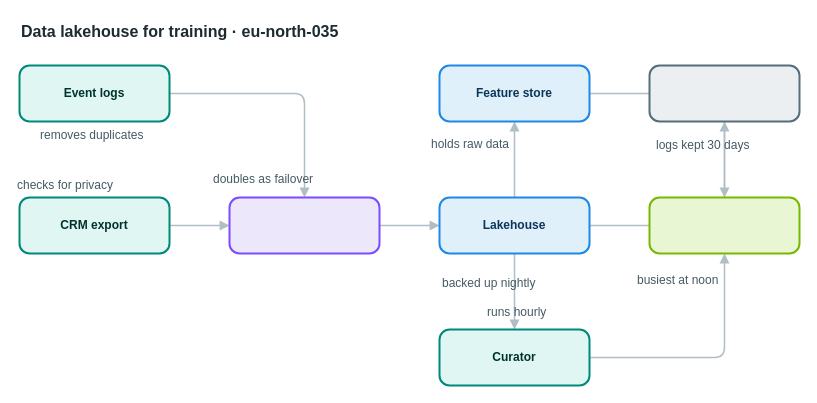
The diagram is 817 pixels wide and 403 high, and some of its shapes have lost their labels. Each missing label, with the centre of its shape:
Dashboards: (724,93)
Stream bus: (304,225)
Training jobs: (724,225)
